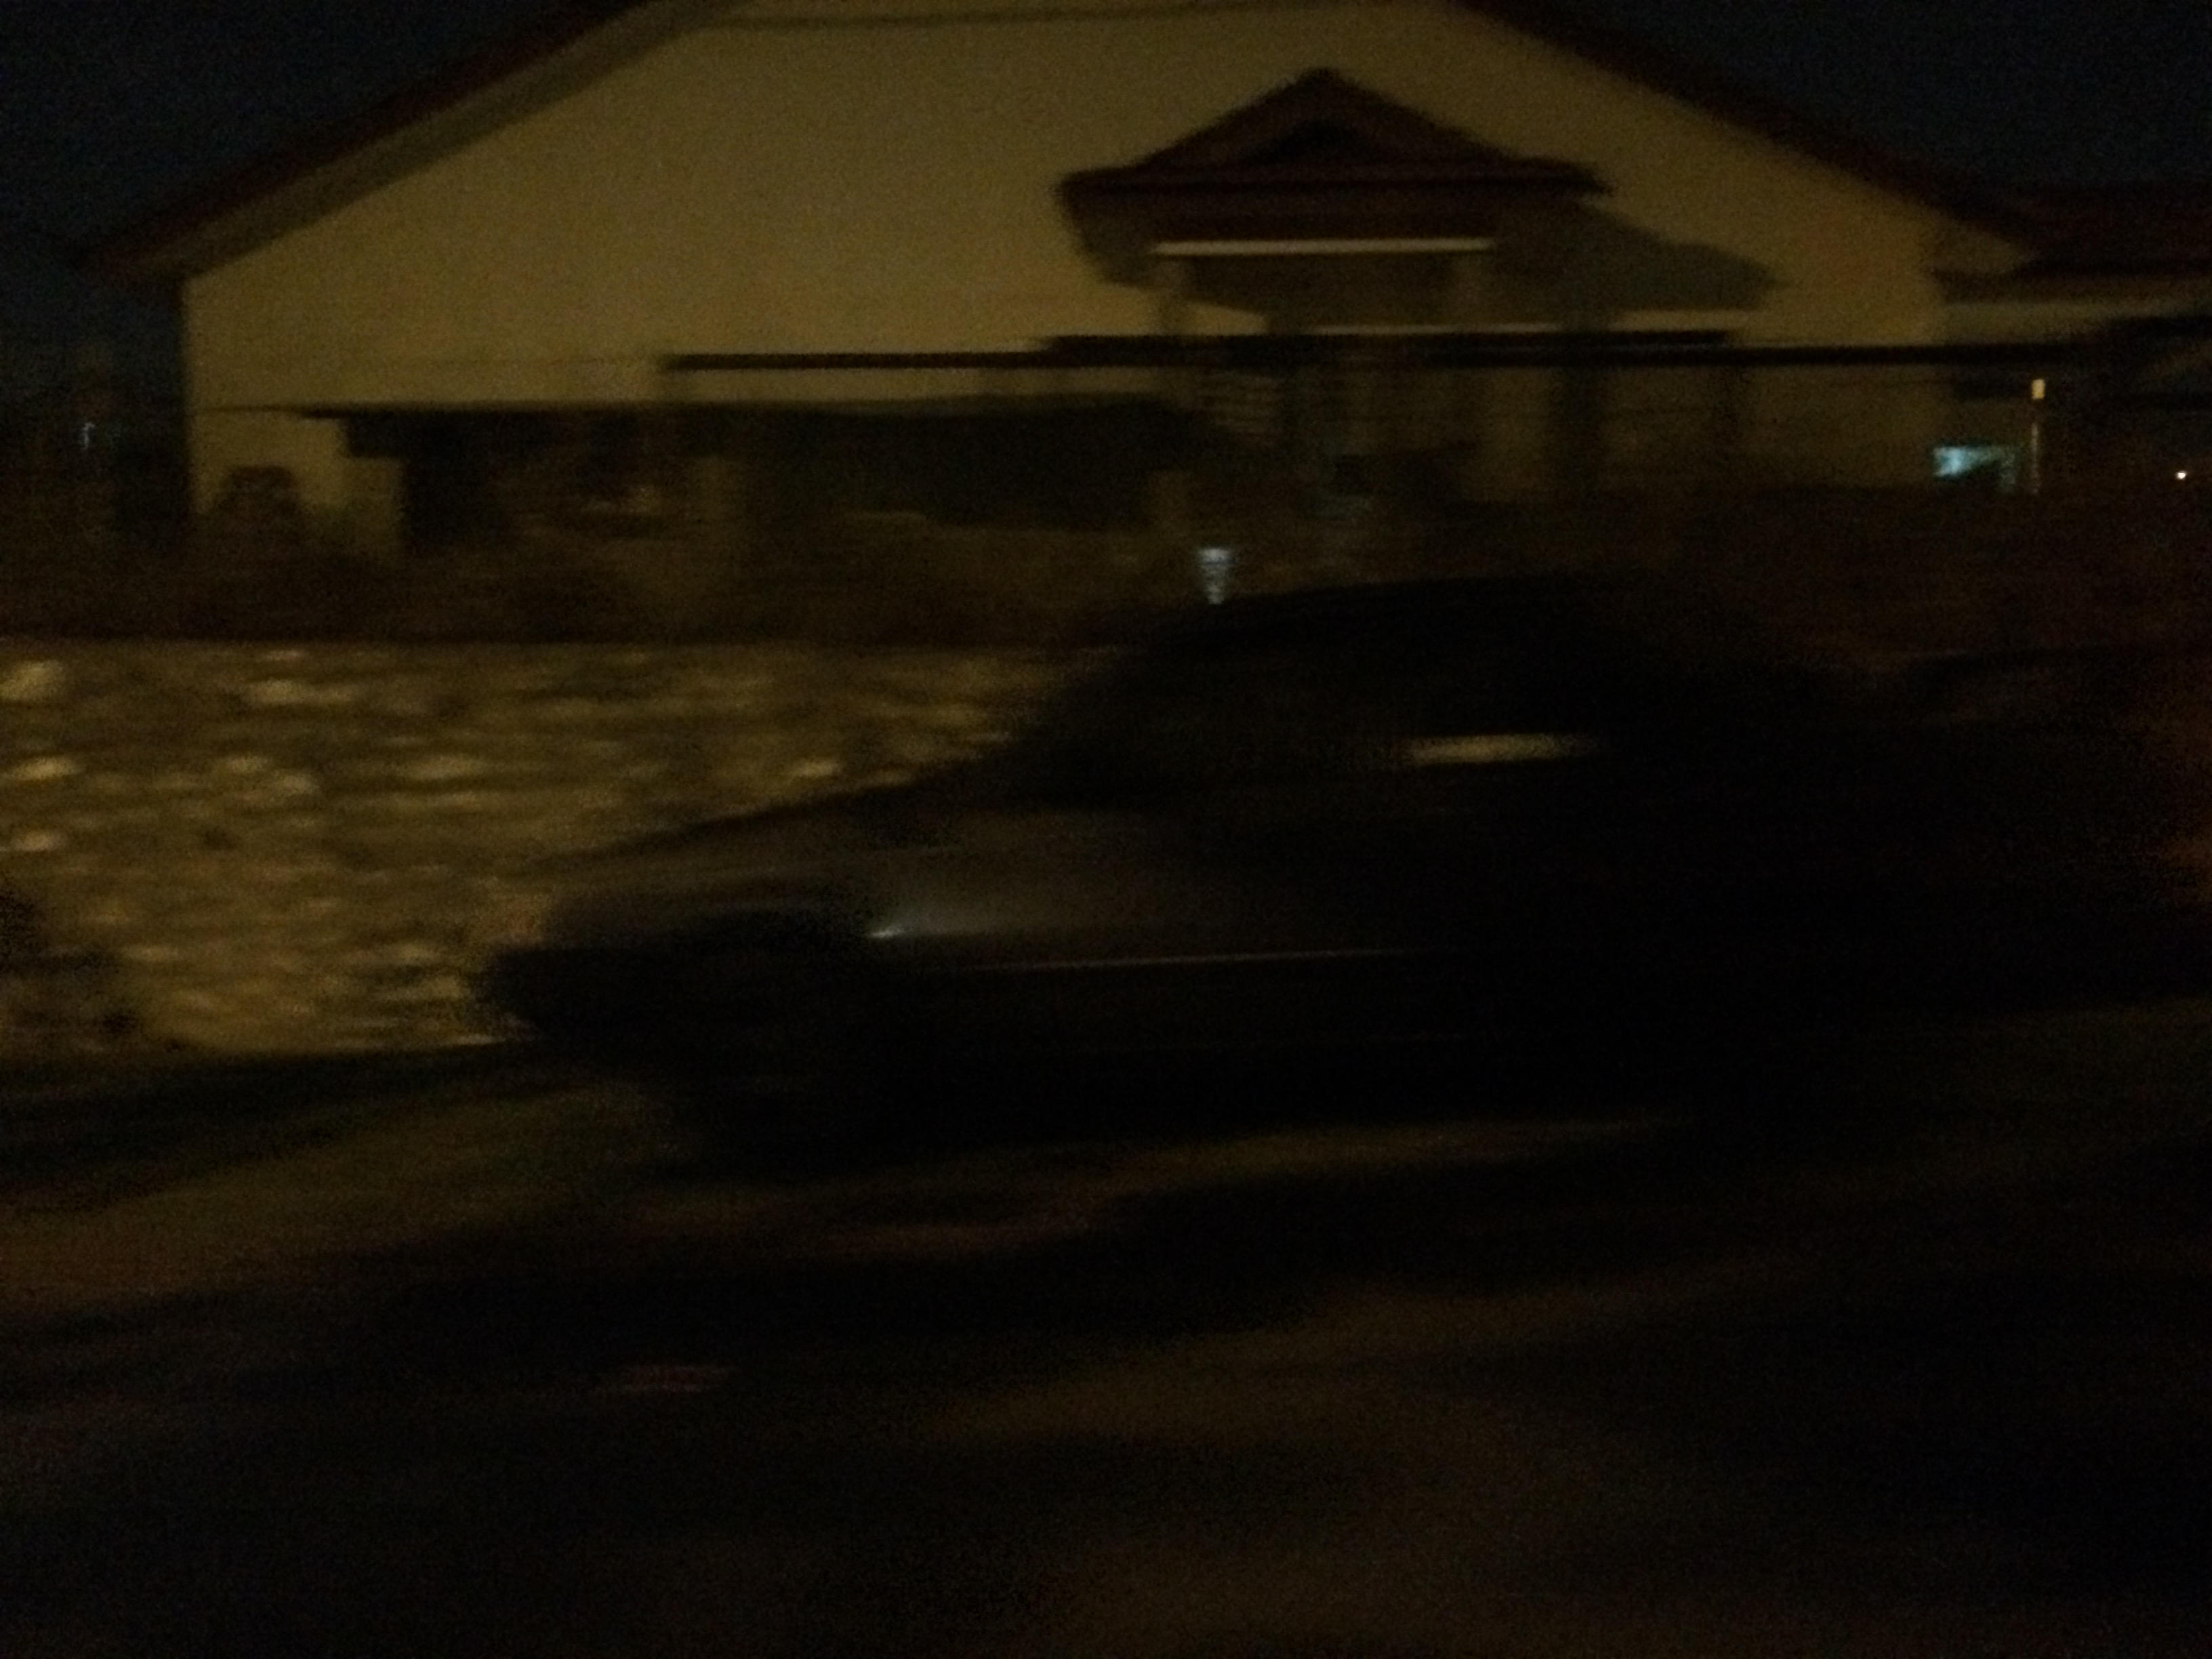car: (425, 533, 2203, 1195)
